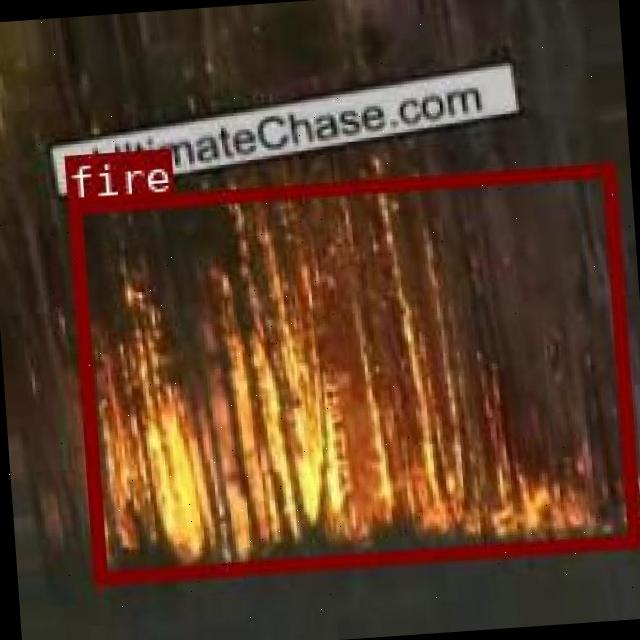fire: (66, 162, 637, 582)
